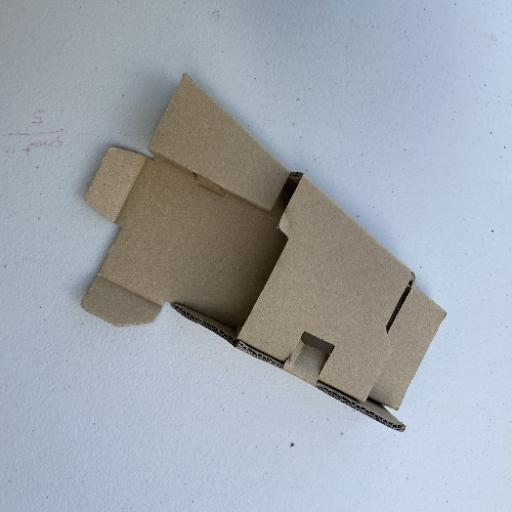Cardboard: (78, 70, 448, 427)
